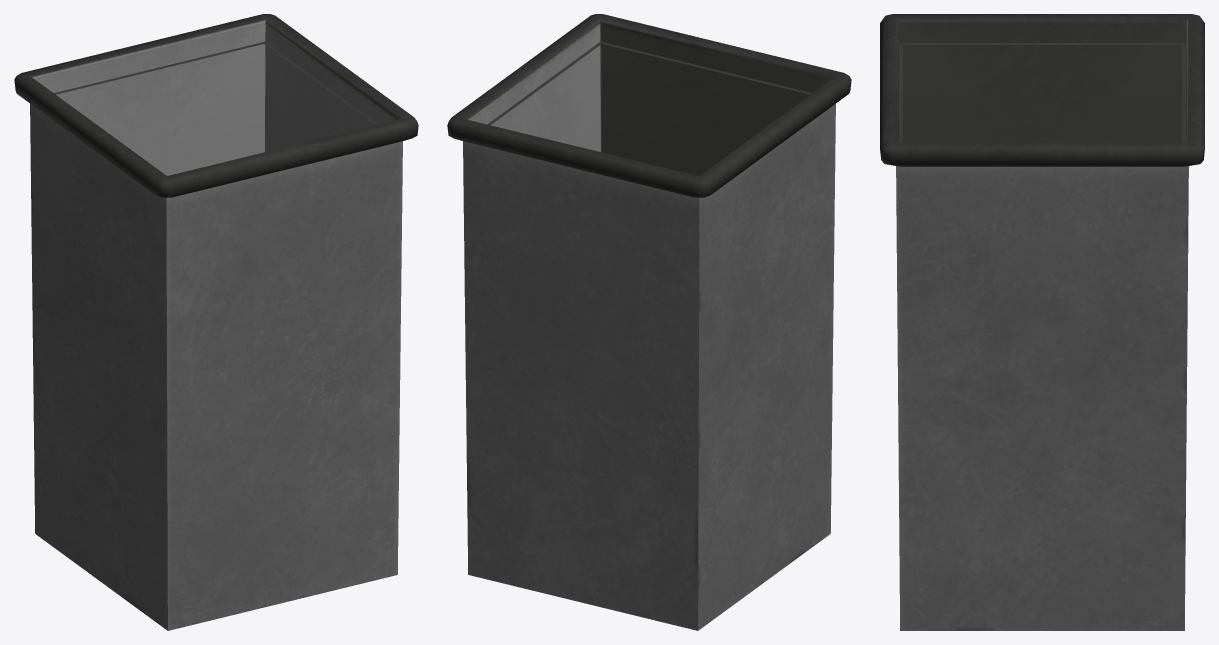
File: inside_area.fbx
The picture shows the model from 3 angles, left to right: view 1: azimuth 30°, elevation 25°; view 2: azimuth 150°, elevation 25°; view 3: azimuth 270°, elevation 25°; orthographic projection. The views are drawn at different scales.
Parts seen in each view (by area): view 1: inside_area; view 2: inside_area; view 3: inside_area.
Part boxes in pixels (bbox=[...]): inside_area: bbox=[14, 14, 418, 630]; inside_area: bbox=[447, 14, 851, 630]; inside_area: bbox=[880, 14, 1204, 630].
Bounding box in the file's own units: 99.55 × 166 × 99.55.
